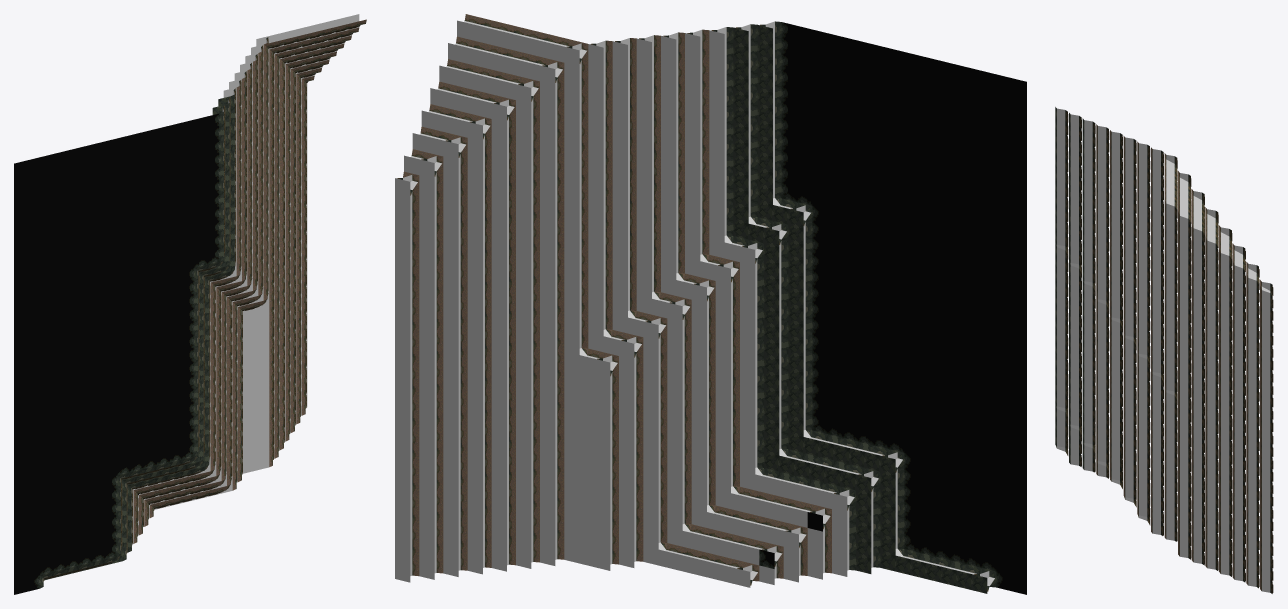
File: Victory-Road-1_00_00.obj
3 views of the same model, side by side, from view 1: azimuth 30°, elevation 25°; view 2: azimuth 150°, elevation 25°; view 3: azimuth 270°, elevation 25° (orthographic). The views are drawn at different scales.
Visible parts, largest first — view 1: map; view 2: map; view 3: map.
Part boxes in pixels (x1,y1,x2,y2): map: [14, 14, 366, 594]; map: [395, 14, 1026, 594]; map: [1055, 107, 1273, 593].
Bounding box in the file's own units: 32 × 32 × 16.
